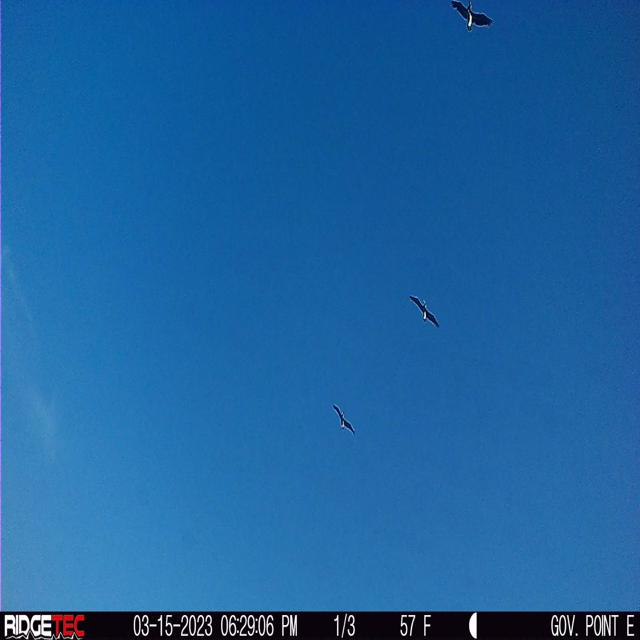bird: (409, 294, 440, 329)
